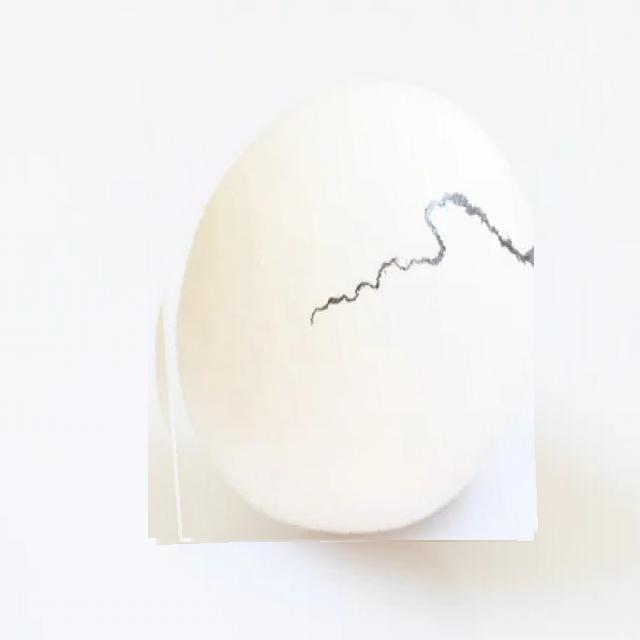biodegradable: (144, 69, 534, 542)
